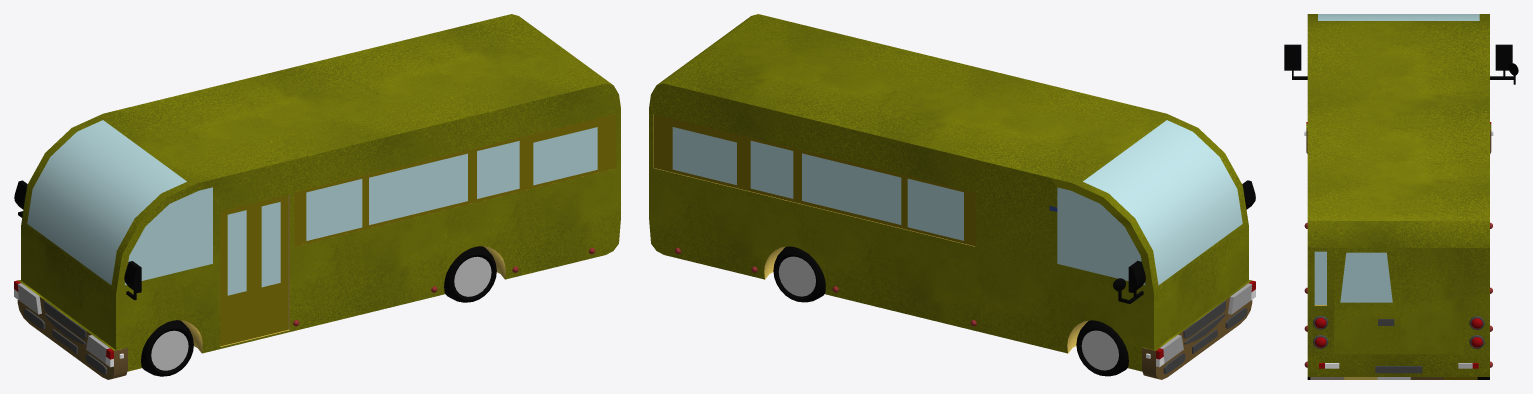
Rendered from BusTexture.fbx.
3 views of the same model, side by side, from view 1: azimuth 30°, elevation 25°; view 2: azimuth 150°, elevation 25°; view 3: azimuth 270°, elevation 25° (orthographic). The views are drawn at different scales.
Parts seen in each view (by area): view 1: Torus.005; view 2: Torus.005; view 3: Torus.005.
Part boxes in pixels (bbox=[...]): Torus.005: bbox=[14, 14, 620, 379]; Torus.005: bbox=[649, 14, 1255, 379]; Torus.005: bbox=[1284, 14, 1518, 379].
Size of the model in its own units: 1051 by 373 by 431.
